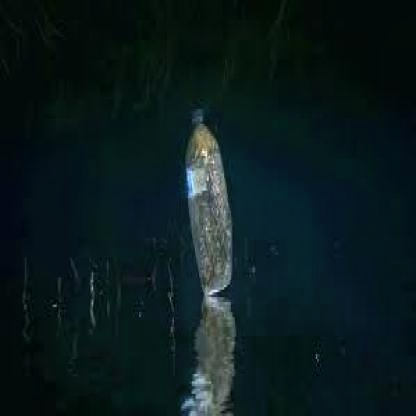pbottle: (178, 99, 242, 300)
